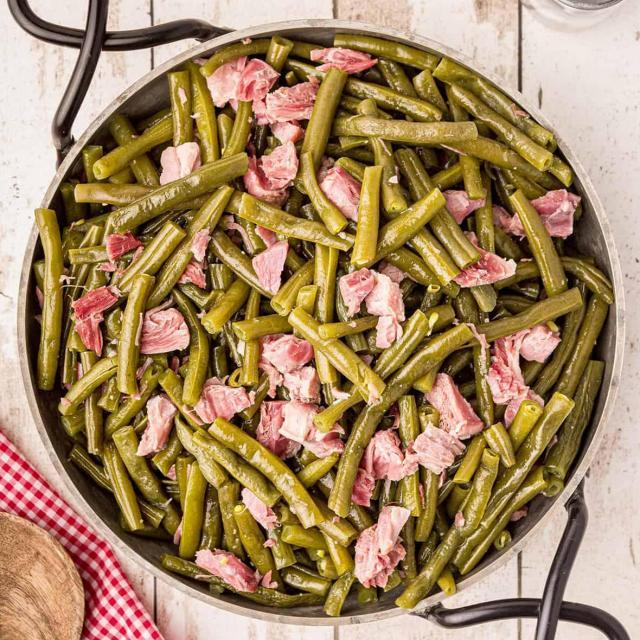Beans: (31, 33, 612, 613)
